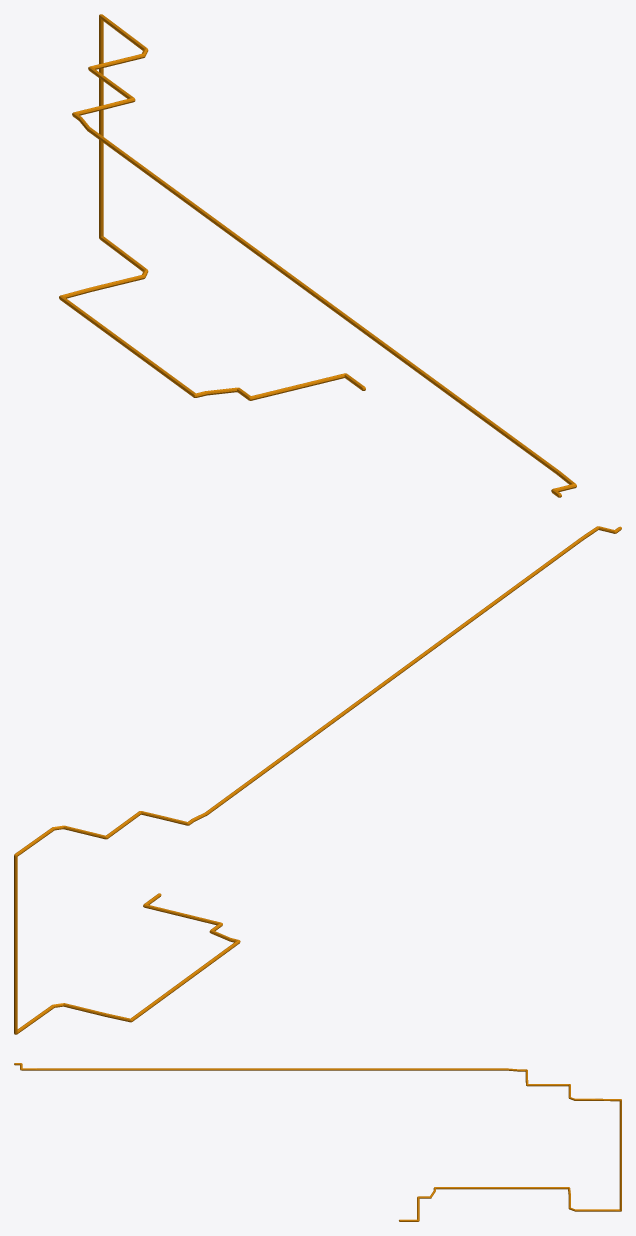
3 renders of one model, top to bottom at view 1: azimuth 30°, elevation 25°; view 2: azimuth 150°, elevation 25°; view 3: azimuth 270°, elevation 25°, orthographic. The views are drawn at different scales.
Bounding box in the file's own units: 914 × 1020 × 4985.
